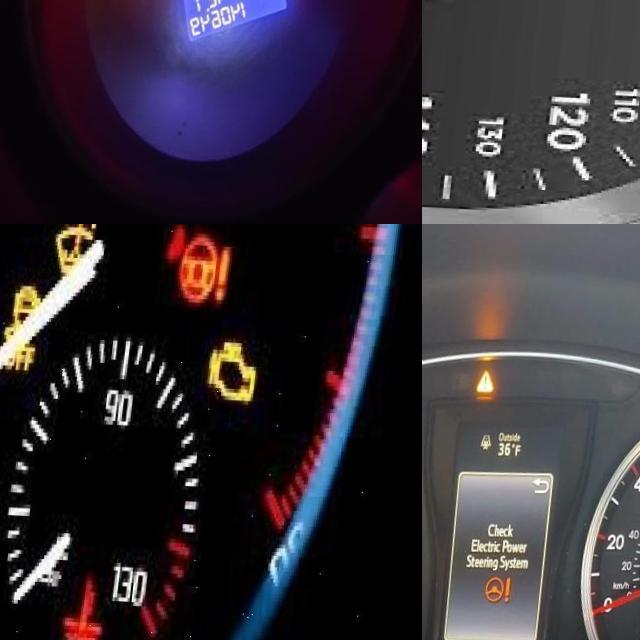Electronic Power Steering: (494, 570, 524, 601)
Electronic Power Steering Warning: (169, 228, 236, 301)
Washer Fluid: (49, 224, 106, 278)
